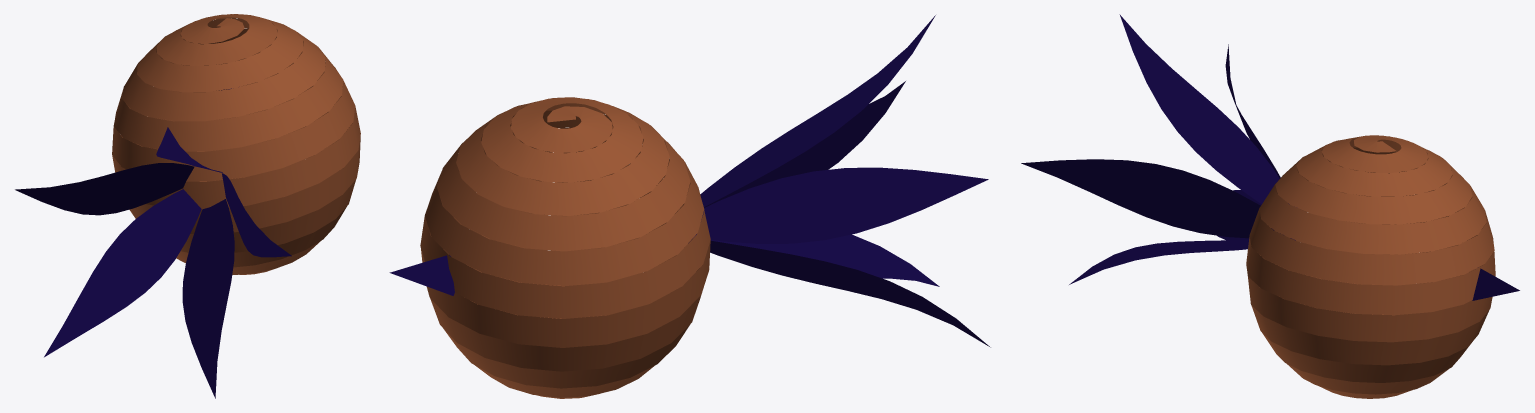
3 views of the same model, side by side, from view 1: azimuth 30°, elevation 25°; view 2: azimuth 150°, elevation 25°; view 3: azimuth 270°, elevation 25° (orthographic). The views are drawn at different scales.
Visible parts, largest first — view 1: brush_Flat_g1_b0, brush_Petal_g1_b0; view 2: brush_Flat_g1_b0, brush_Petal_g1_b0, brush_Spikes_g1_b0; view 3: brush_Flat_g1_b0, brush_Petal_g1_b0, brush_Spikes_g1_b0.
Part boxes in pixels (x1,y1,x2,y2): brush_Flat_g1_b0: (112, 14, 360, 274); brush_Petal_g1_b0: (15, 127, 291, 398); brush_Flat_g1_b0: (420, 97, 710, 398); brush_Petal_g1_b0: (688, 15, 990, 347); brush_Spikes_g1_b0: (389, 255, 454, 295); brush_Flat_g1_b0: (1246, 135, 1495, 398); brush_Petal_g1_b0: (1021, 14, 1295, 284); brush_Spikes_g1_b0: (1472, 268, 1519, 300).
Bounding box in the file's own units: 4.35 × 2.86 × 4.68.
